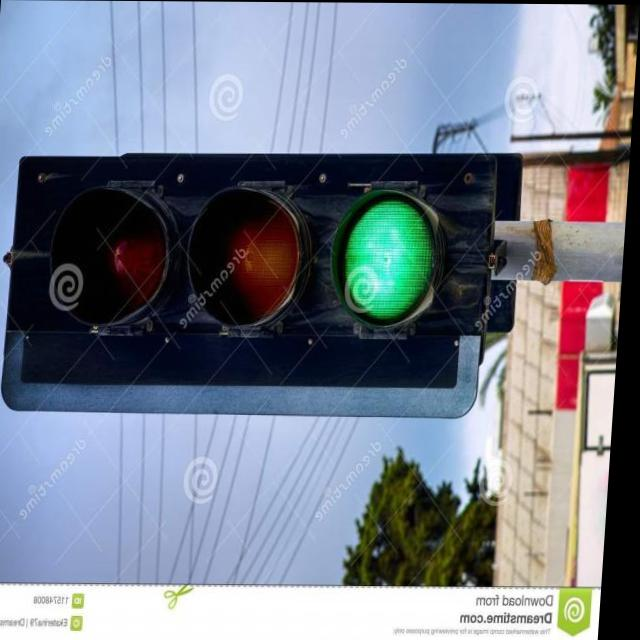green light: (11, 155, 475, 388)
